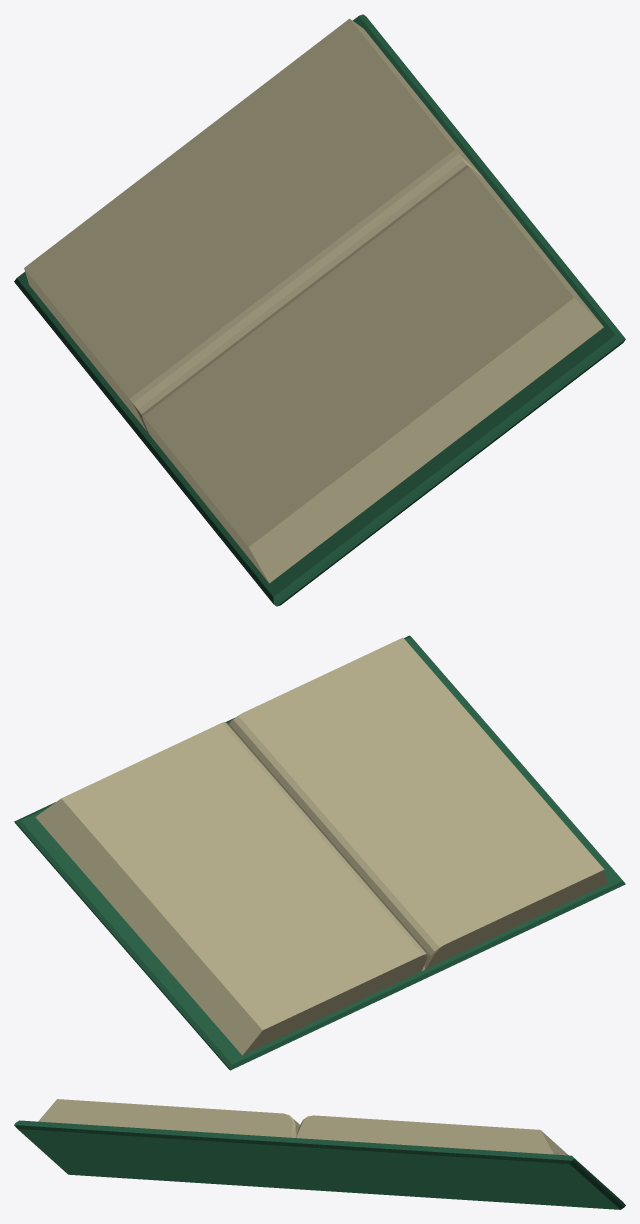
File: Open Book One.fbx
3 views of the same model, one above another, from view 1: azimuth 30°, elevation 25°; view 2: azimuth 150°, elevation 25°; view 3: azimuth 270°, elevation 25° (orthographic). The views are drawn at different scales.
Visible parts, largest first — view 1: polySurface283; view 2: polySurface283; view 3: polySurface283.
Boxes of the visible parts, box(x1,y1,x2,y2) form: polySurface283: box(14, 14, 625, 606); polySurface283: box(14, 635, 625, 1070); polySurface283: box(14, 1099, 625, 1209).
Bounding box in the file's own units: 2.5 × 1.38 × 4.15.
